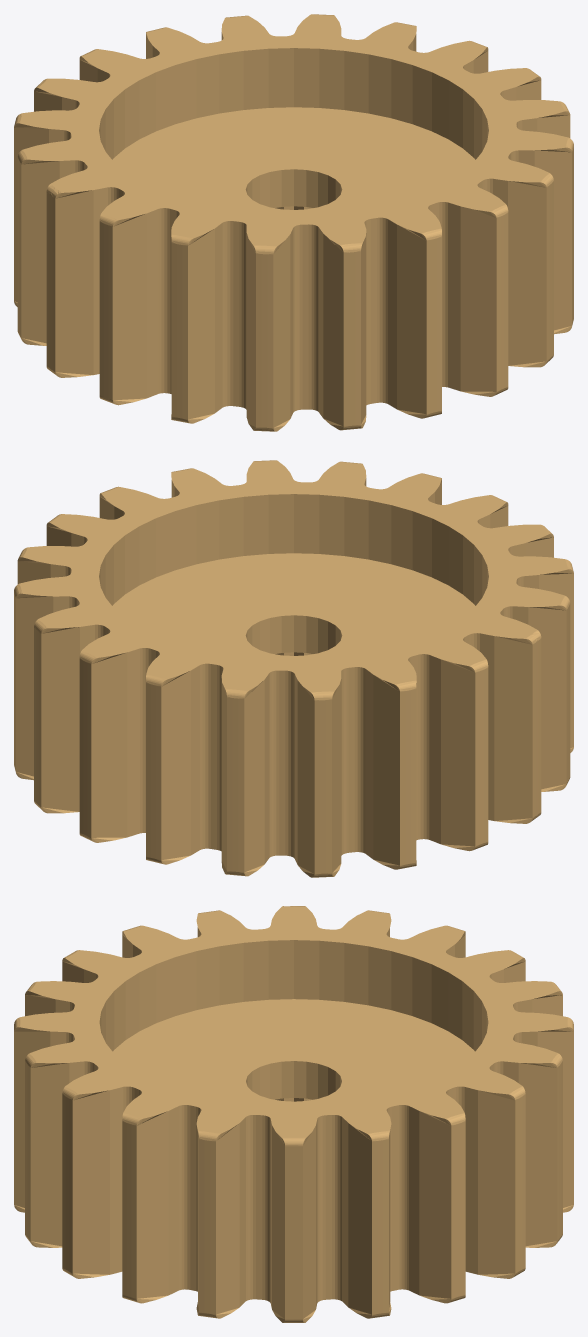
3 views of the same model, one above another, from view 1: azimuth 30°, elevation 25°; view 2: azimuth 150°, elevation 25°; view 3: azimuth 270°, elevation 25° (orthographic).
Visible parts, largest first — view 1: Model; view 2: Model; view 3: Model.
Part boxes in pixels (left/top/right/bottom): Model: left=14, top=14, right=573, bottom=431; Model: left=14, top=460, right=573, bottom=877; Model: left=14, top=906, right=573, bottom=1322.
Size of the model in its own units: 17.46 by 17.46 by 6.35.
